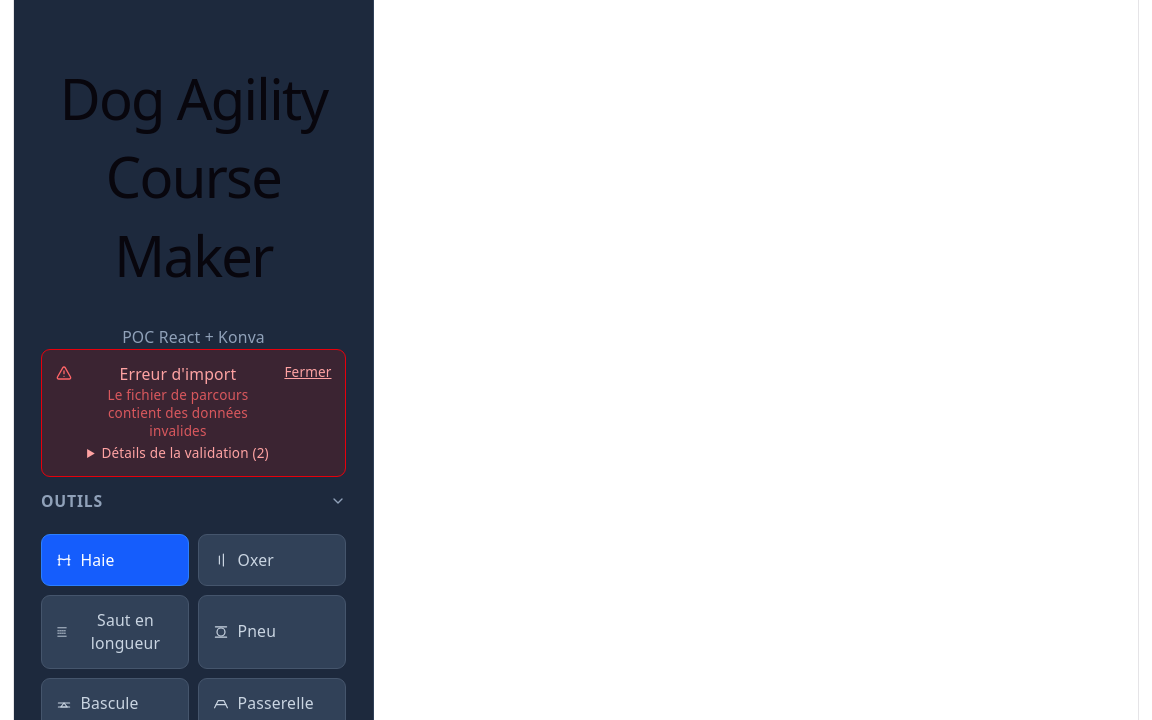
Scenario: Sidebar accessibilité › l'erreur de validation liste ses détails repliés (path + message traduit)
Check: the message shows "Le fichier de parcours contient des données invalides", box [108,386,248,440]
Click the heading "Détails de la validation (2)": (178, 453) [80,444,275,462]
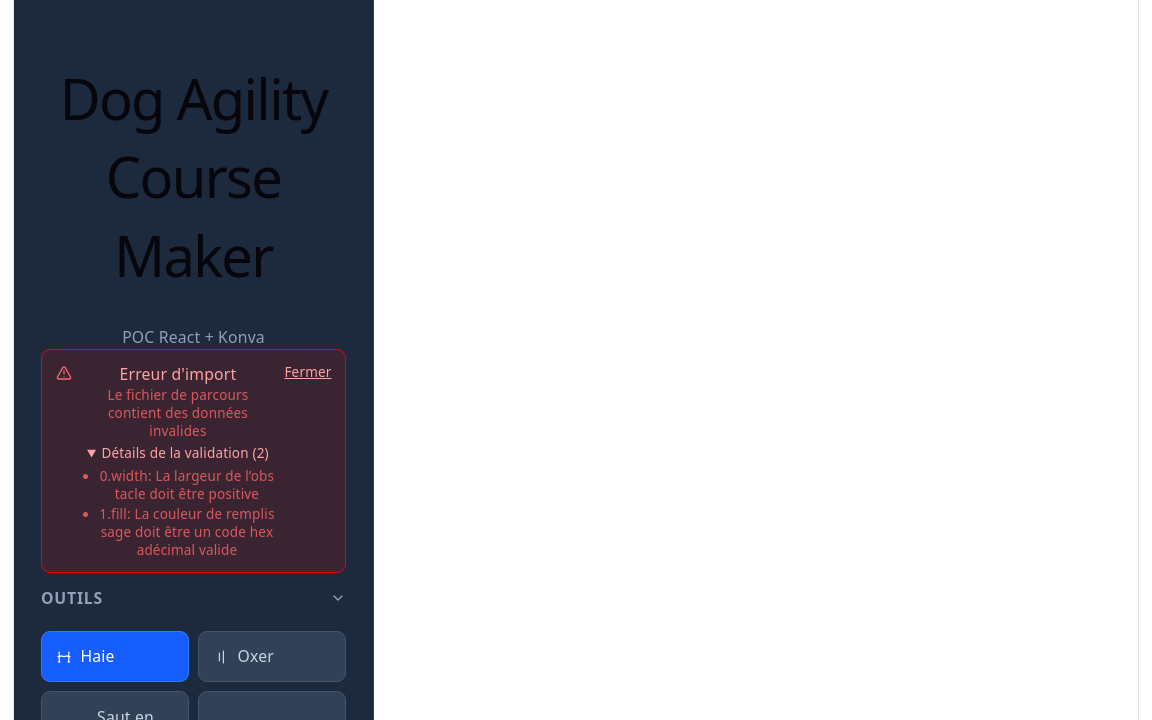
Check: the list item "0.width: La largeur de l’obstacle doit être positive" is shown, box [98,467,275,503]
Check: the list item "1.fill:" is shown, box [98,505,275,559]
Check: the list item "La couleur de remplissage doit être un code hexadécimal valide" is shown, box [101,505,274,559]
